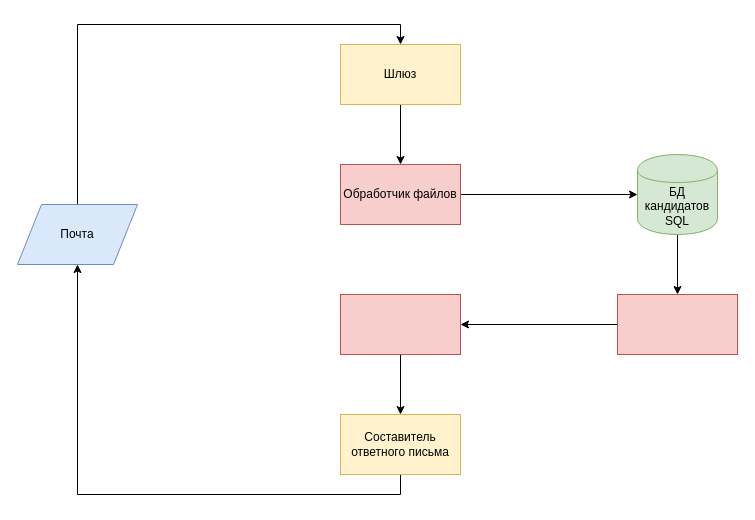
The diagram is 755 pixels wide and 520 high, and some of its shapes have lost their labels. Each missing label, with the box of its shape:
Обработчик кандидатов: (616, 294, 738, 354)
Распределитель по времени: (340, 294, 460, 354)
